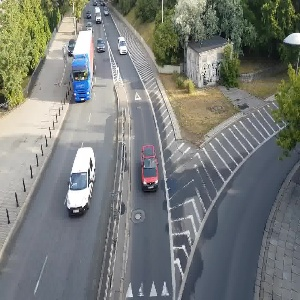semi: (67, 32, 97, 103)
suv: (134, 141, 165, 193)
van: (58, 147, 103, 234)
